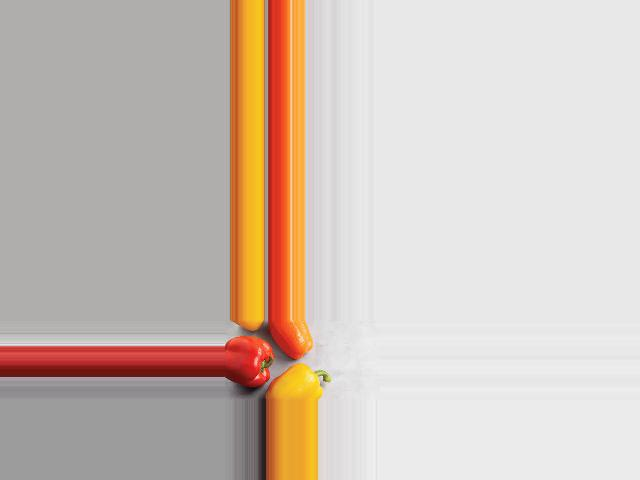bell_pepper: (225, 335, 274, 389)
